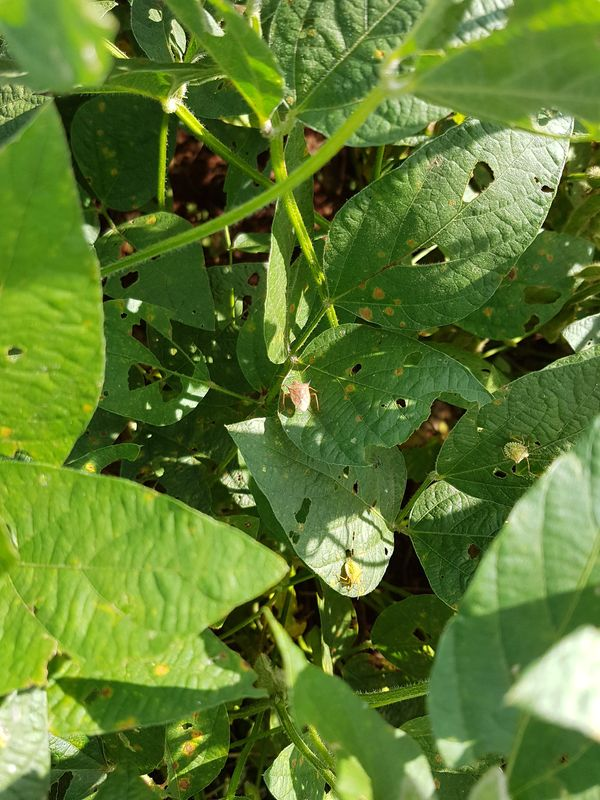Euschistus_heros_adulto: (270, 362, 324, 419)
Euschistus_heros_ninfa: (495, 431, 541, 475), (330, 553, 374, 596)
